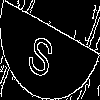S: (25, 24, 59, 81)
